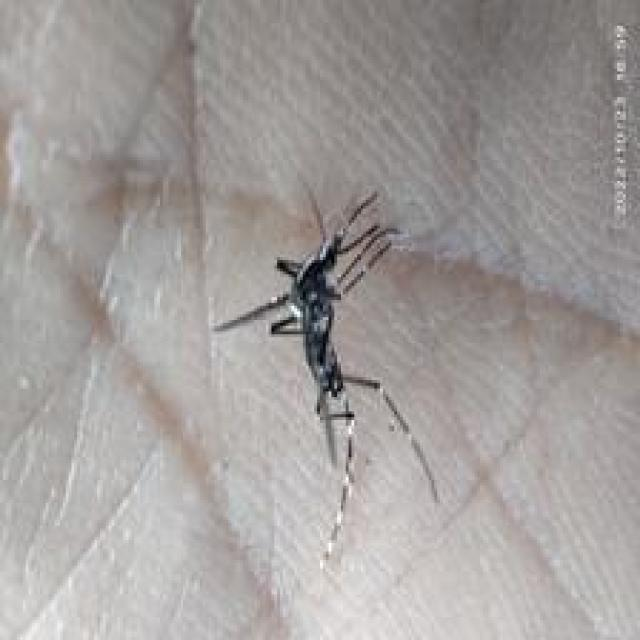Aedes albopictus: (210, 179, 441, 567)
